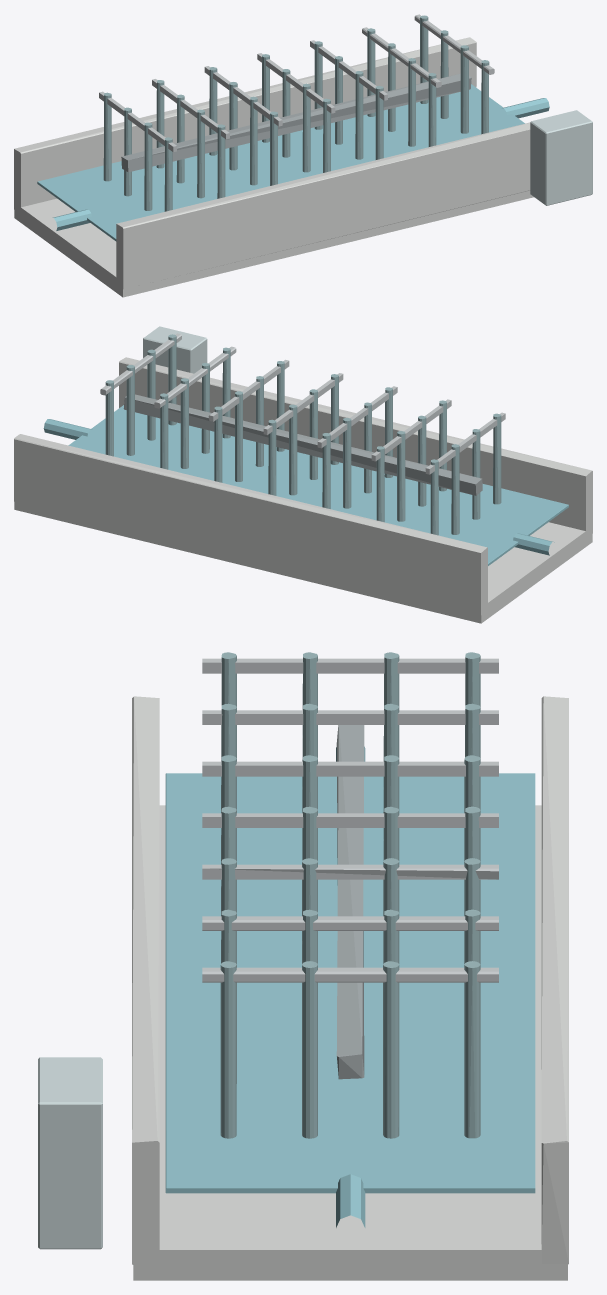
The picture shows the model from 3 angles, top to bottom: view 1: azimuth 30°, elevation 25°; view 2: azimuth 150°, elevation 25°; view 3: azimuth 270°, elevation 25°; orthographic projection. The views are drawn at different scales.
Parts seen in each view (by area): view 1: render-batch-6, render-batch-0, render-batch-1, render-batch-4, render-batch-2, render-batch-3; view 2: render-batch-6, render-batch-1, render-batch-0, render-batch-2, render-batch-3, render-batch-4; view 3: render-batch-0, render-batch-6, render-batch-1, render-batch-3, render-batch-4, render-batch-2.
Boxes of the visible parts, bbox=[...] form: render-batch-6: bbox=[14, 37, 533, 297]; render-batch-0: bbox=[37, 84, 549, 241]; render-batch-1: bbox=[103, 15, 489, 211]; render-batch-4: bbox=[530, 110, 592, 205]; render-batch-2: bbox=[121, 73, 471, 172]; render-batch-3: bbox=[99, 14, 494, 152]; render-batch-6: bbox=[14, 357, 592, 623]; render-batch-1: bbox=[105, 334, 501, 535]; render-batch-0: bbox=[43, 405, 568, 565]; render-batch-2: bbox=[123, 394, 482, 495]; render-batch-3: bbox=[100, 333, 505, 474]; render-batch-4: bbox=[143, 326, 207, 373]; render-batch-0: bbox=[165, 746, 535, 1227]; render-batch-6: bbox=[132, 696, 568, 1280]; render-batch-1: bbox=[220, 652, 480, 1138]; render-batch-3: bbox=[202, 658, 498, 982]; render-batch-4: bbox=[38, 1057, 102, 1249]; render-batch-2: bbox=[336, 725, 364, 1079].
Size of what is drawn, in the model's own units: 14 by 3.38 by 6.54.
